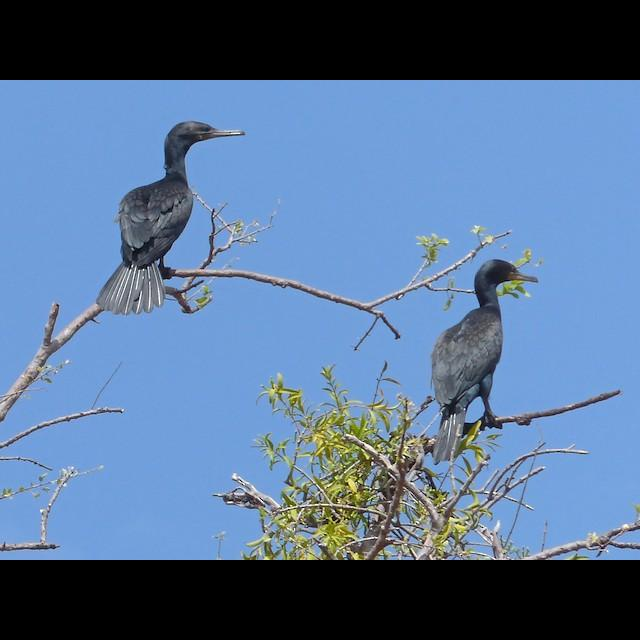cormorant: (94, 120, 244, 318)
